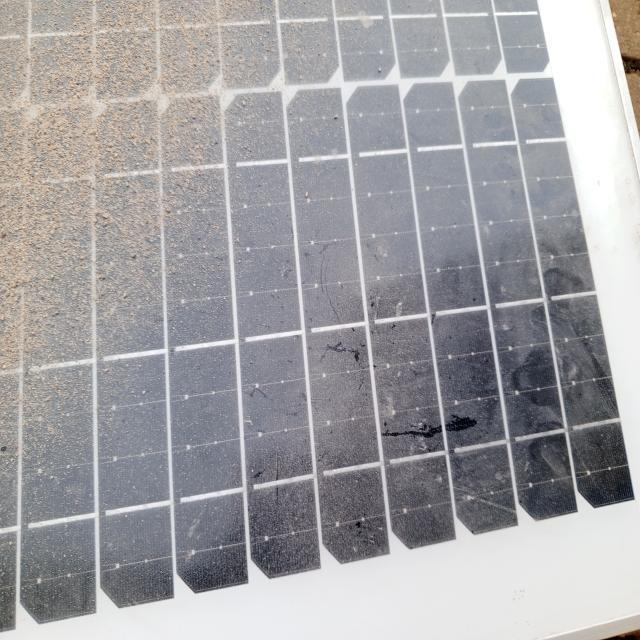Surface Contaminant: (148, 4, 634, 604)
